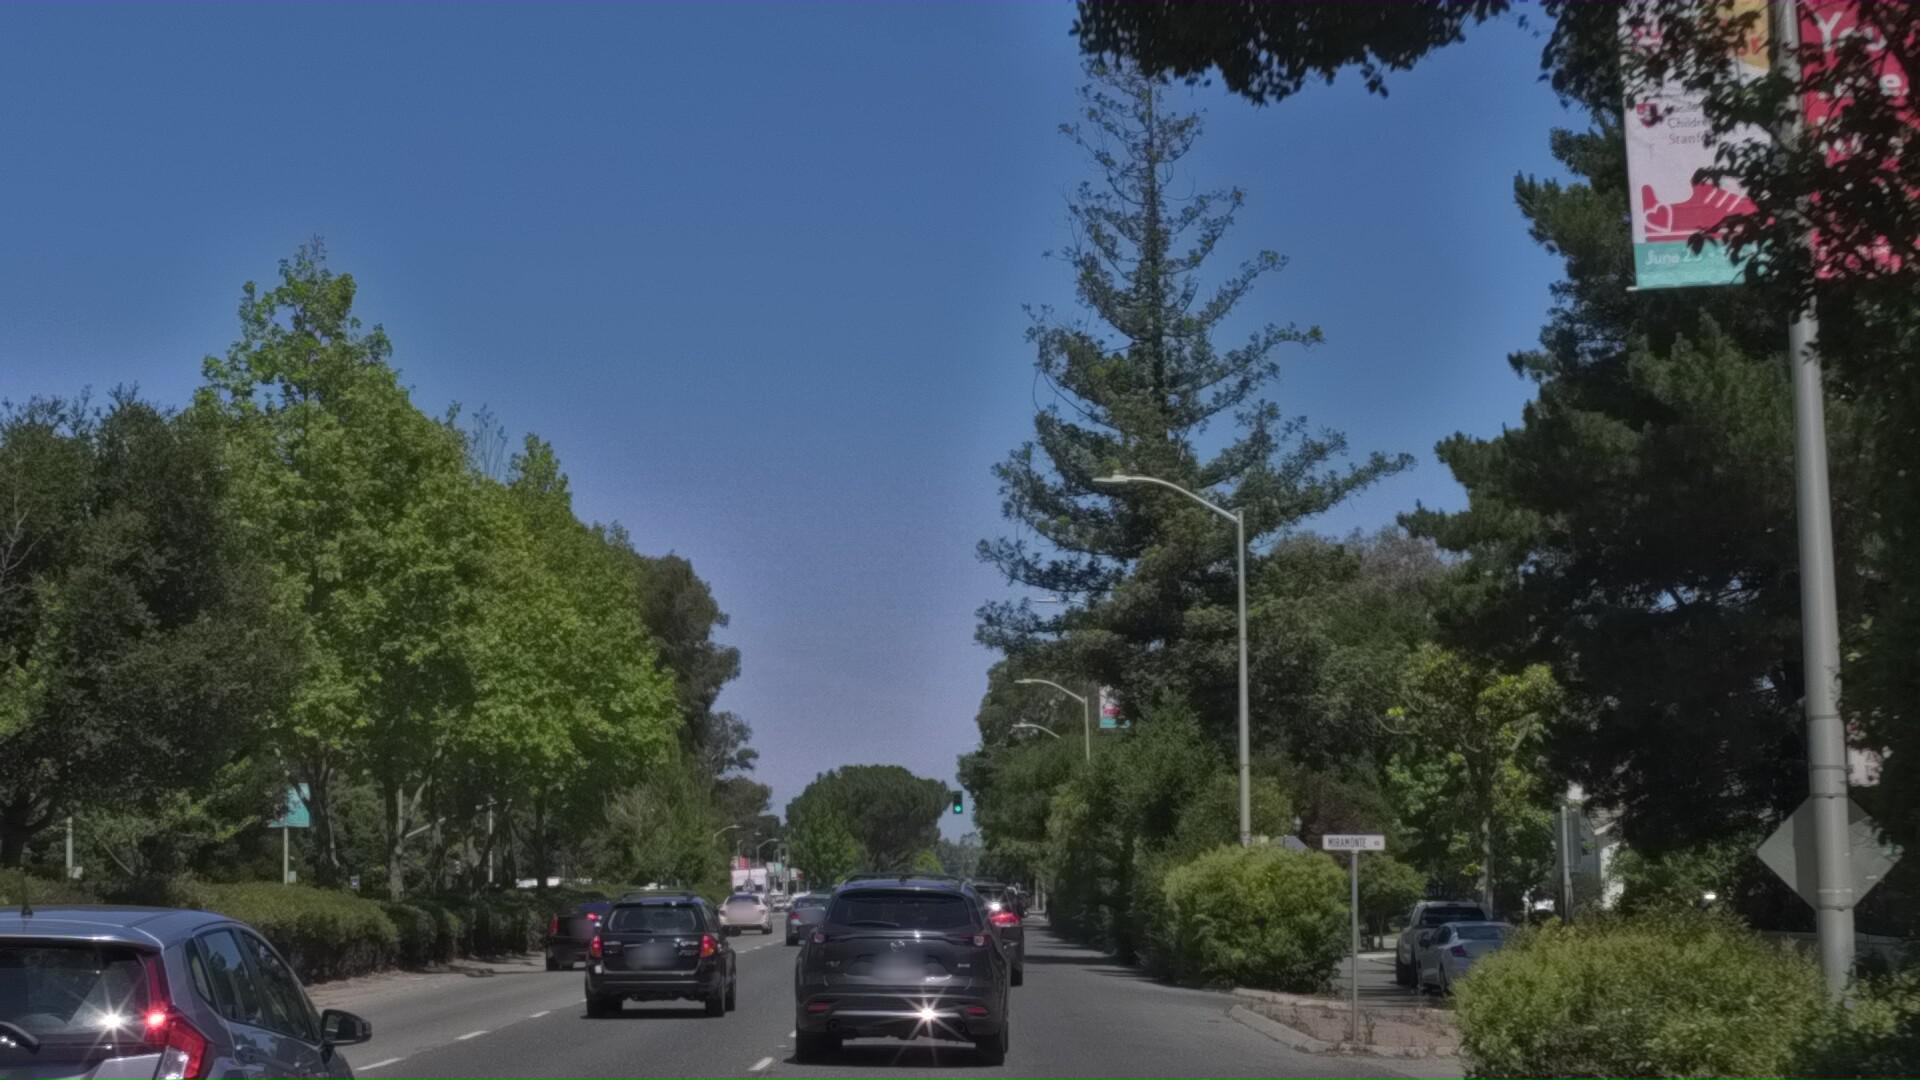car: (0, 949, 415, 1080), (774, 939, 1035, 1080), (553, 957, 749, 1080), (890, 965, 1025, 1080), (1387, 988, 1523, 1080), (531, 982, 655, 1069), (1412, 1002, 1547, 1080)
truck: (0, 196, 47, 1080)
